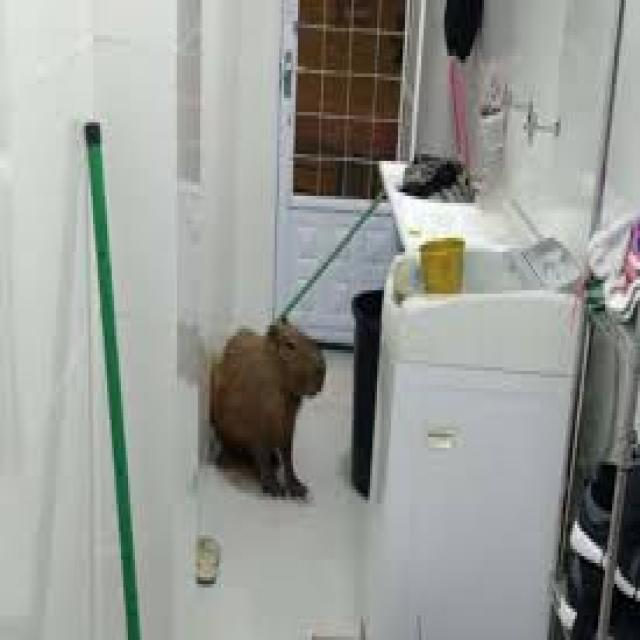capy: (210, 314, 328, 506)
